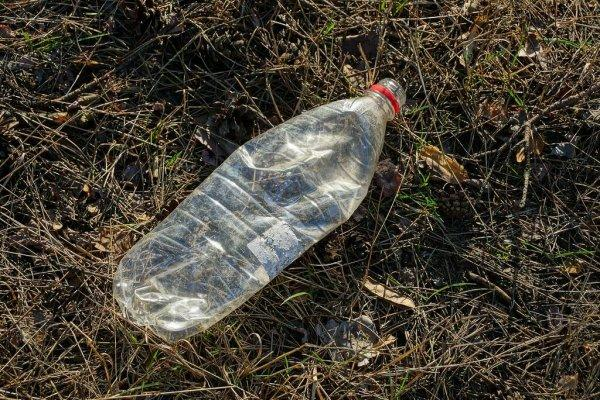bottle: (91, 39, 427, 354)
